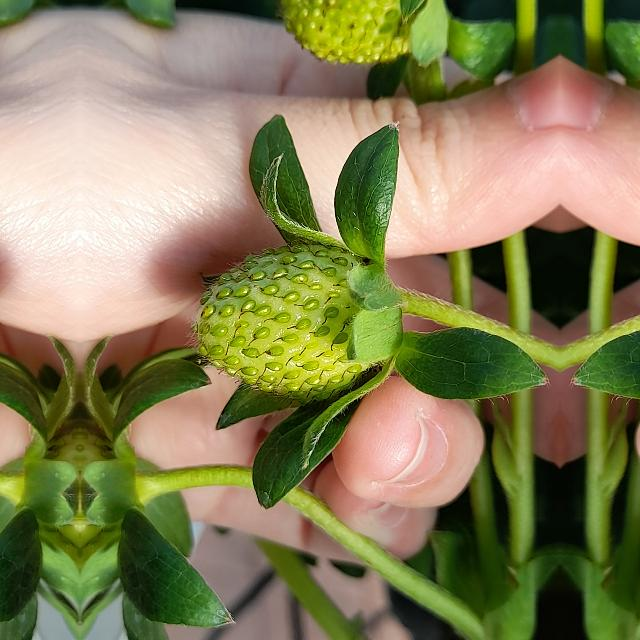Health_25: (183, 236, 373, 409), (278, 0, 418, 62)
